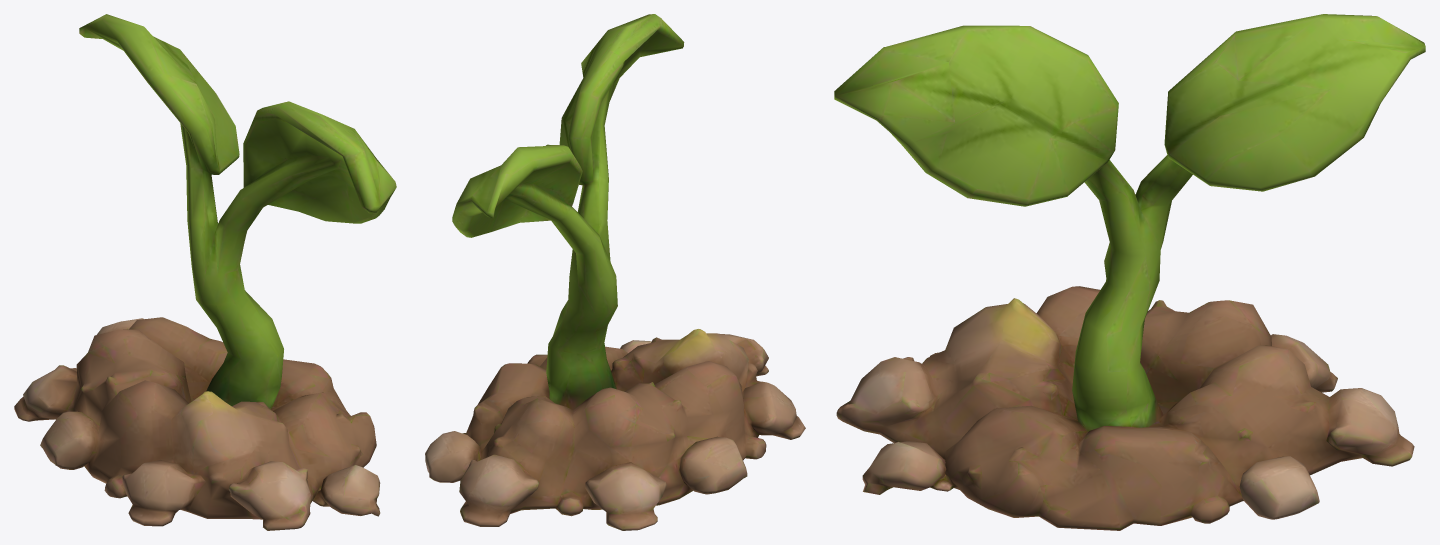
The model's file is fasola_2.glb.
The picture shows the model from 3 angles, left to right: view 1: azimuth 30°, elevation 25°; view 2: azimuth 150°, elevation 25°; view 3: azimuth 270°, elevation 25°; orthographic projection. The views are drawn at different scales.
Visible parts, largest first — view 1: fasola_2; view 2: fasola_2; view 3: fasola_2.
Boxes of the visible parts, x1,y1,x2,y2 form: fasola_2: [14, 14, 396, 530]; fasola_2: [425, 14, 805, 530]; fasola_2: [834, 14, 1425, 530].
Size of the model in its own units: 0.6223 by 0.7984 by 0.9393.
Materials: 1 (1 with a texture image).
